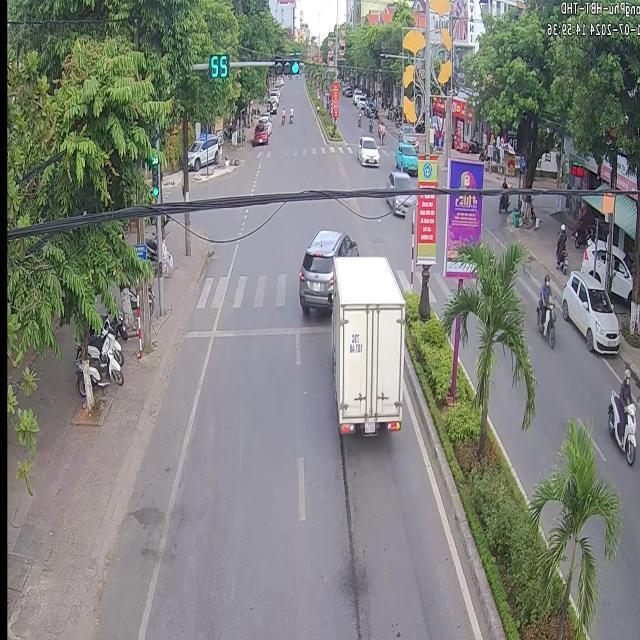car: (330, 256, 403, 434), (296, 229, 353, 318), (386, 170, 413, 208), (395, 139, 416, 171), (357, 138, 376, 163)
green_light: (272, 56, 298, 74), (149, 151, 158, 198)
motobike: (287, 103, 293, 125), (279, 104, 284, 126)
stop_line: (182, 323, 326, 337)
